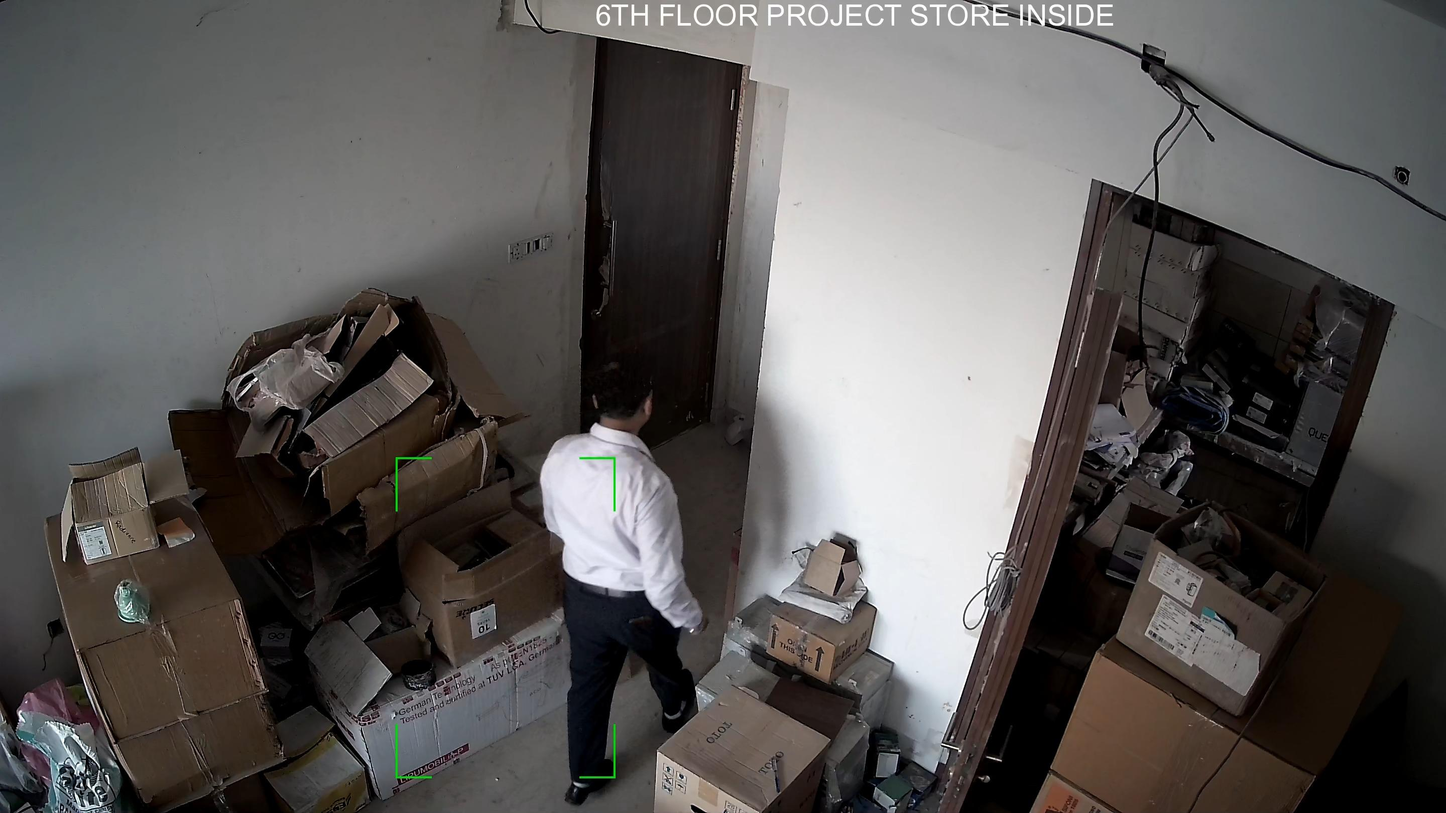Door-Close: (571, 34, 739, 447)
